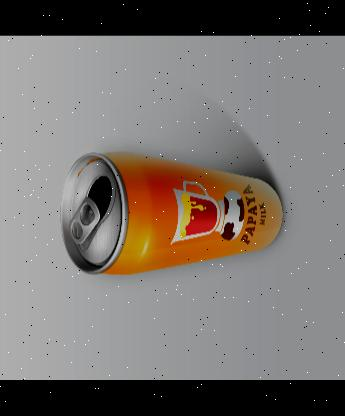Can: (60, 152, 282, 275)
